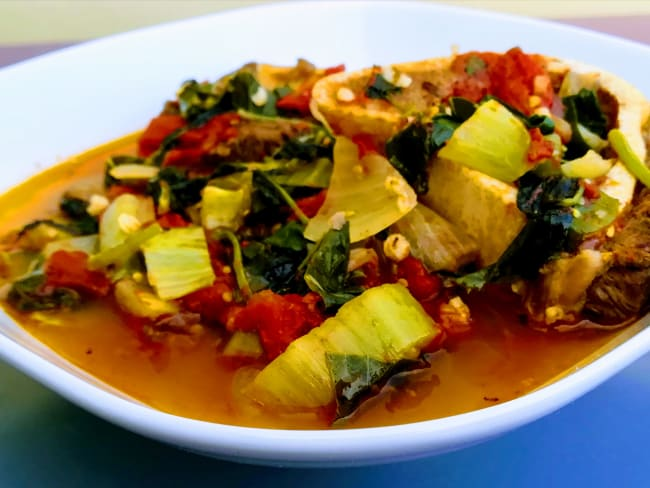brèdes mafane: (439, 171, 514, 249)
choux chnois: (270, 294, 439, 366)
legume: (263, 173, 298, 264)
oignon: (346, 142, 404, 234)
tomate: (216, 284, 265, 327)
viande boeuf: (596, 228, 630, 319)
